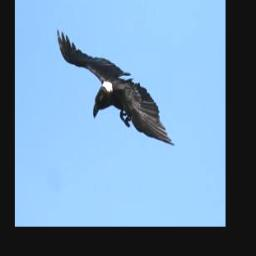Crow: (56, 26, 176, 145)
